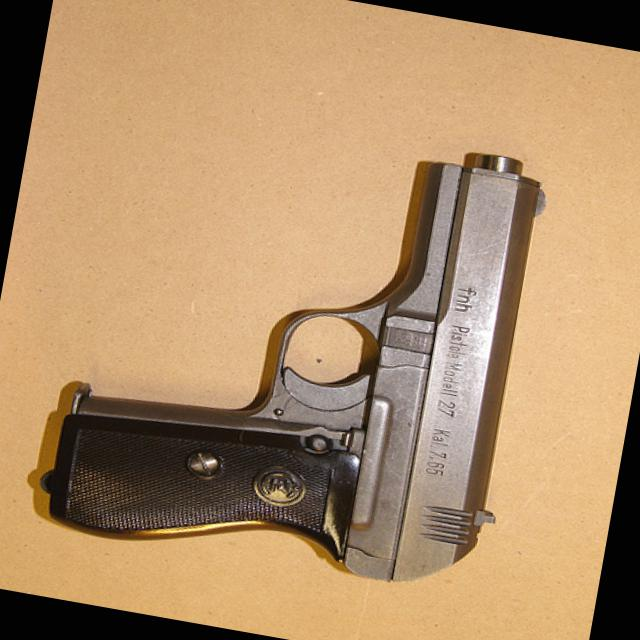handgun: (36, 82, 556, 601)
